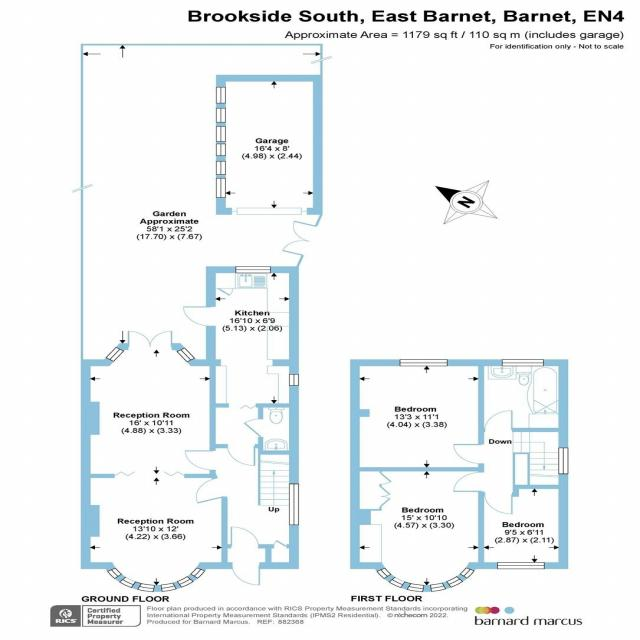DOOR: (195, 477, 227, 504), (182, 305, 216, 327), (225, 444, 257, 467), (231, 562, 261, 586), (483, 492, 514, 515), (452, 443, 484, 465), (184, 449, 216, 471), (452, 471, 484, 492), (484, 410, 514, 432), (230, 526, 259, 548), (241, 417, 263, 439)
DOUBLE DOOR: (126, 328, 174, 350)
FOLDING DOOR: (109, 468, 138, 479), (161, 469, 186, 478)
ROOM: (80, 329, 228, 593), (350, 467, 484, 592), (182, 266, 299, 407), (350, 359, 484, 471), (478, 485, 569, 569)
WINDOW: (288, 483, 300, 526), (496, 561, 546, 570), (398, 359, 449, 367), (501, 359, 545, 367), (234, 265, 272, 274), (557, 447, 569, 475), (104, 346, 125, 362), (176, 347, 196, 363), (176, 575, 195, 589), (445, 575, 465, 588), (118, 576, 137, 589), (388, 576, 406, 589), (106, 567, 123, 580), (189, 566, 206, 579), (459, 566, 476, 579), (405, 582, 426, 592), (136, 582, 155, 593), (376, 567, 392, 580), (428, 582, 448, 592), (160, 582, 178, 592), (288, 373, 300, 387)
